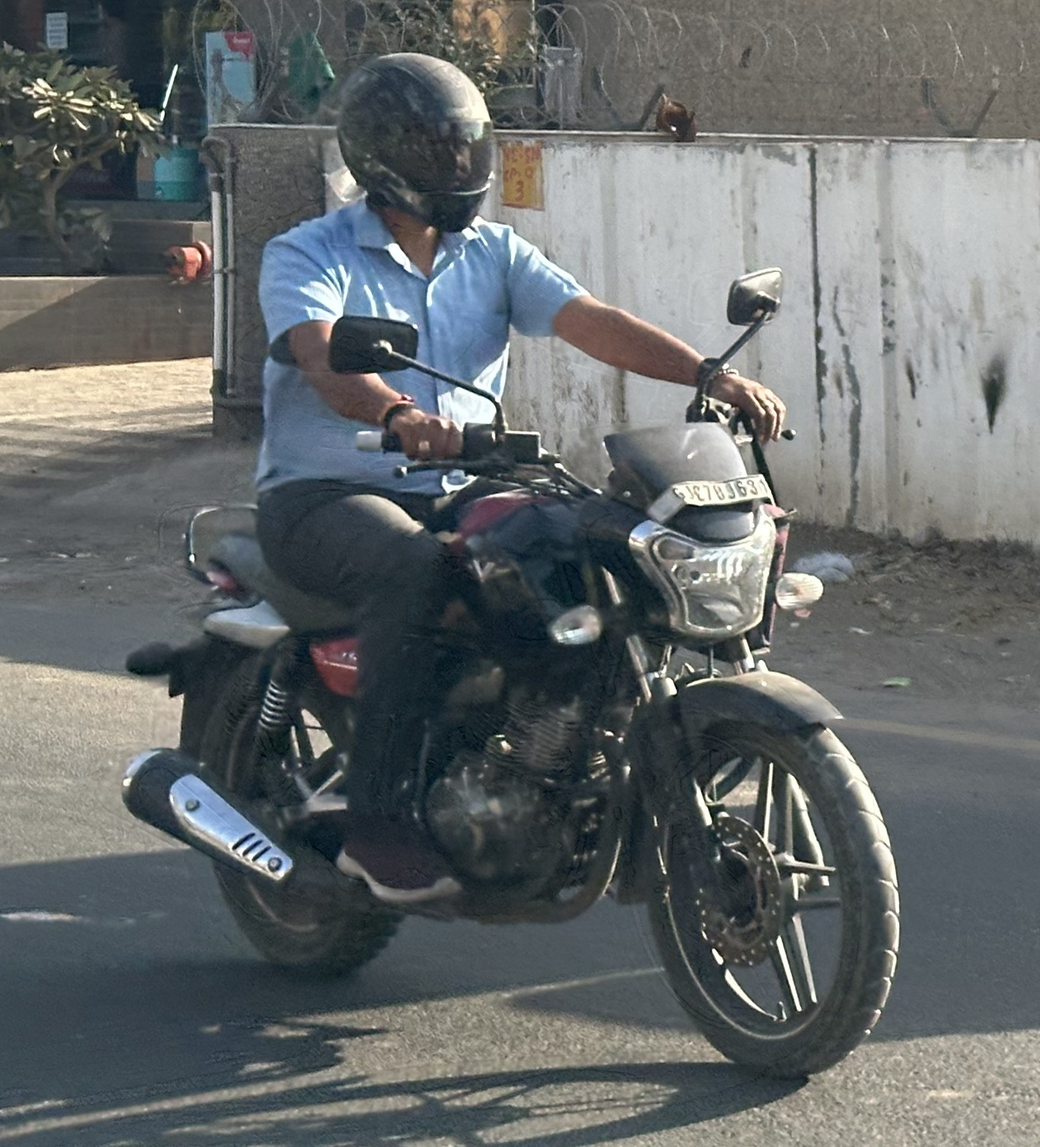BikeWithRider: (99, 40, 923, 1091)
Helmet: (318, 45, 518, 241)
